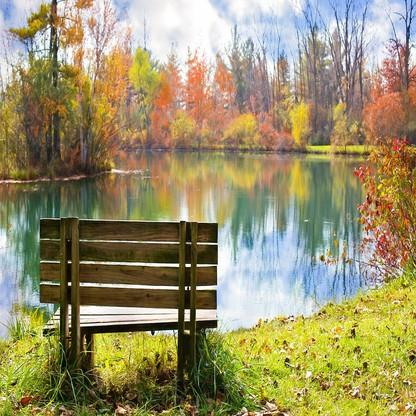obstacle: (26, 202, 234, 382)
